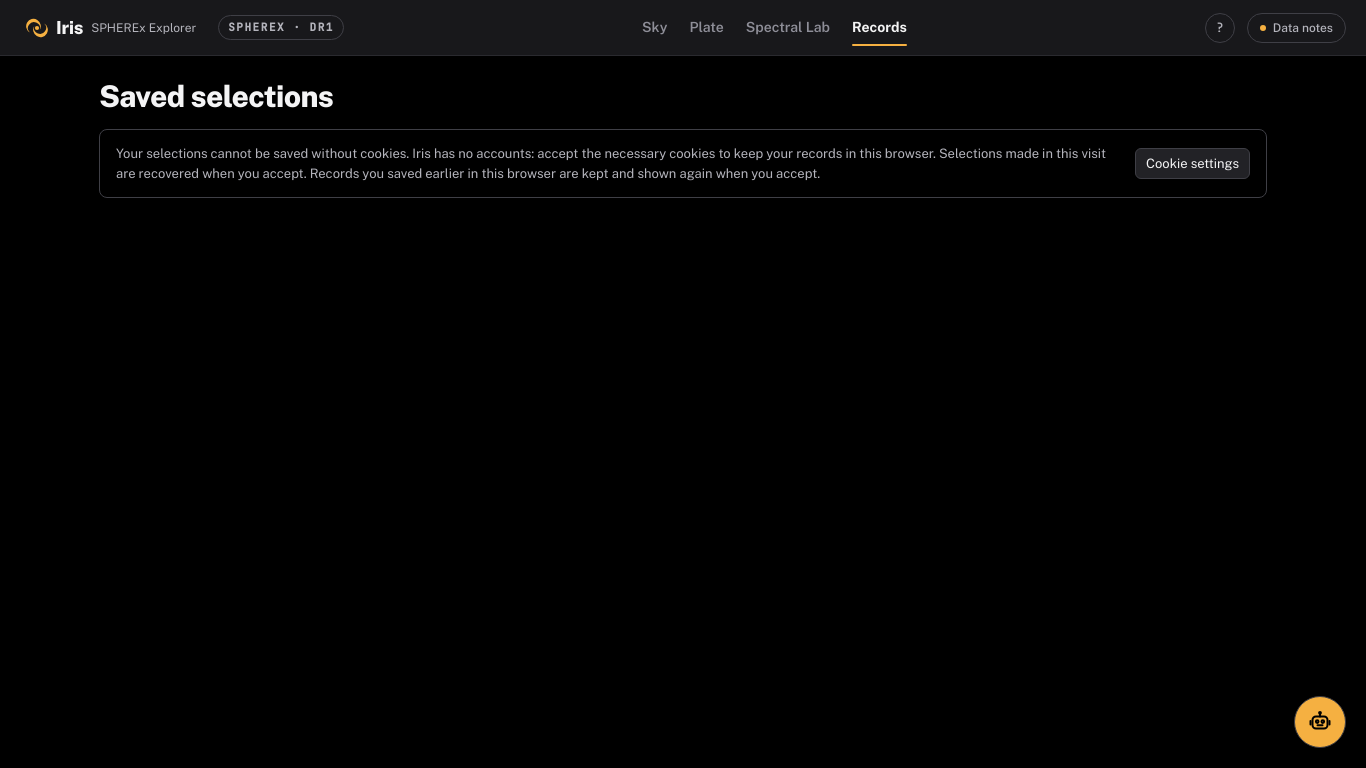
Test: App cookie consent › tells Records visitors that selections cannot be saved without cookies
Check: the message shows "Your selections cannot be saved without cookies.", box x1=116 y1=146 x2=1106 y2=180
Step 1. Click the button "Cookie settings" → (1192, 164), box x1=1135 y1=148 x2=1250 y2=179
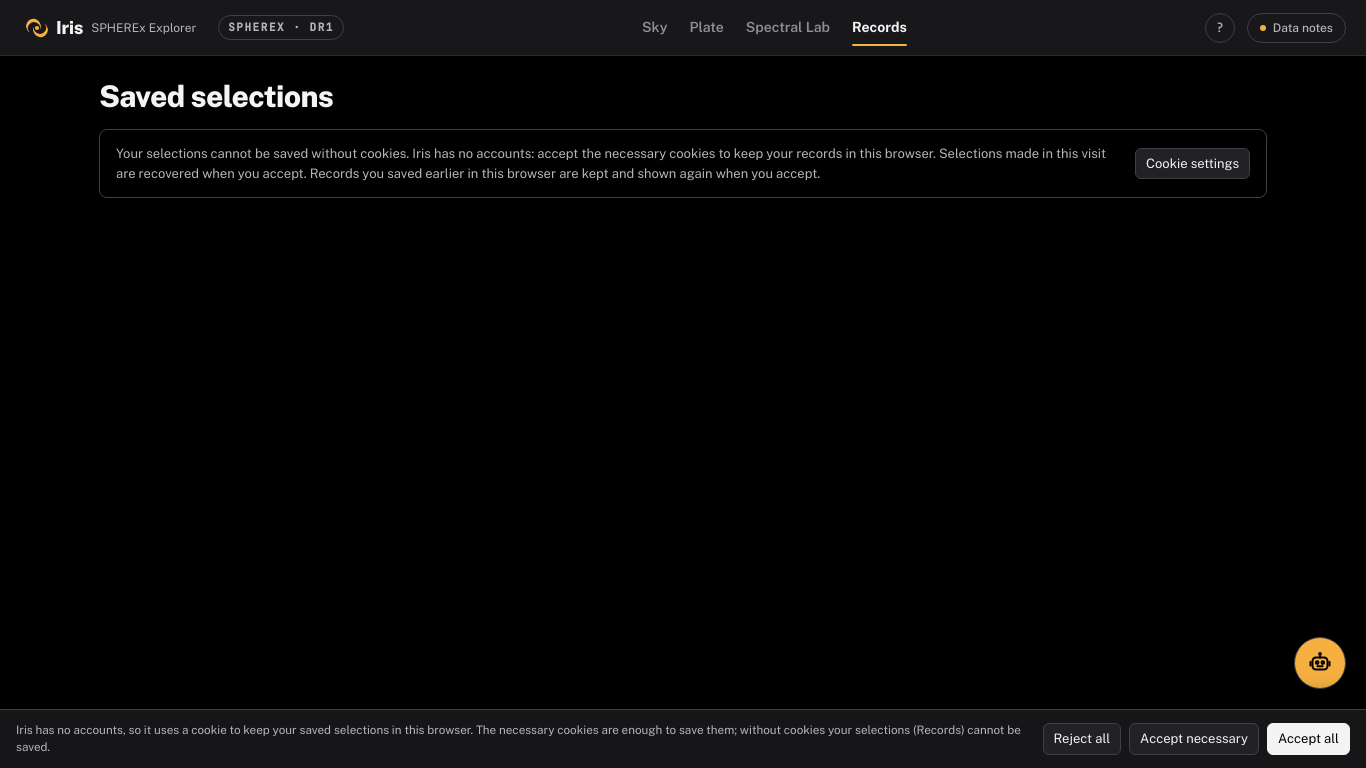
Check: the element named "Cookie consent" is shown, box x1=0 y1=709 x2=1365 y2=767
